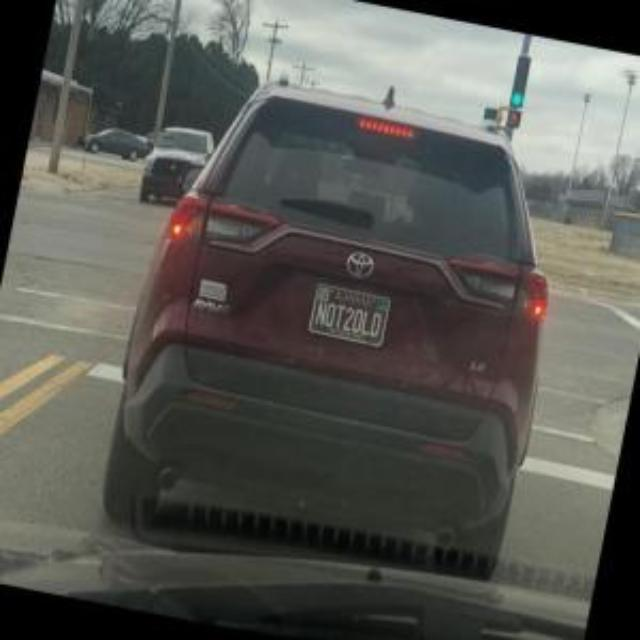License Plate: (308, 282, 392, 347)
